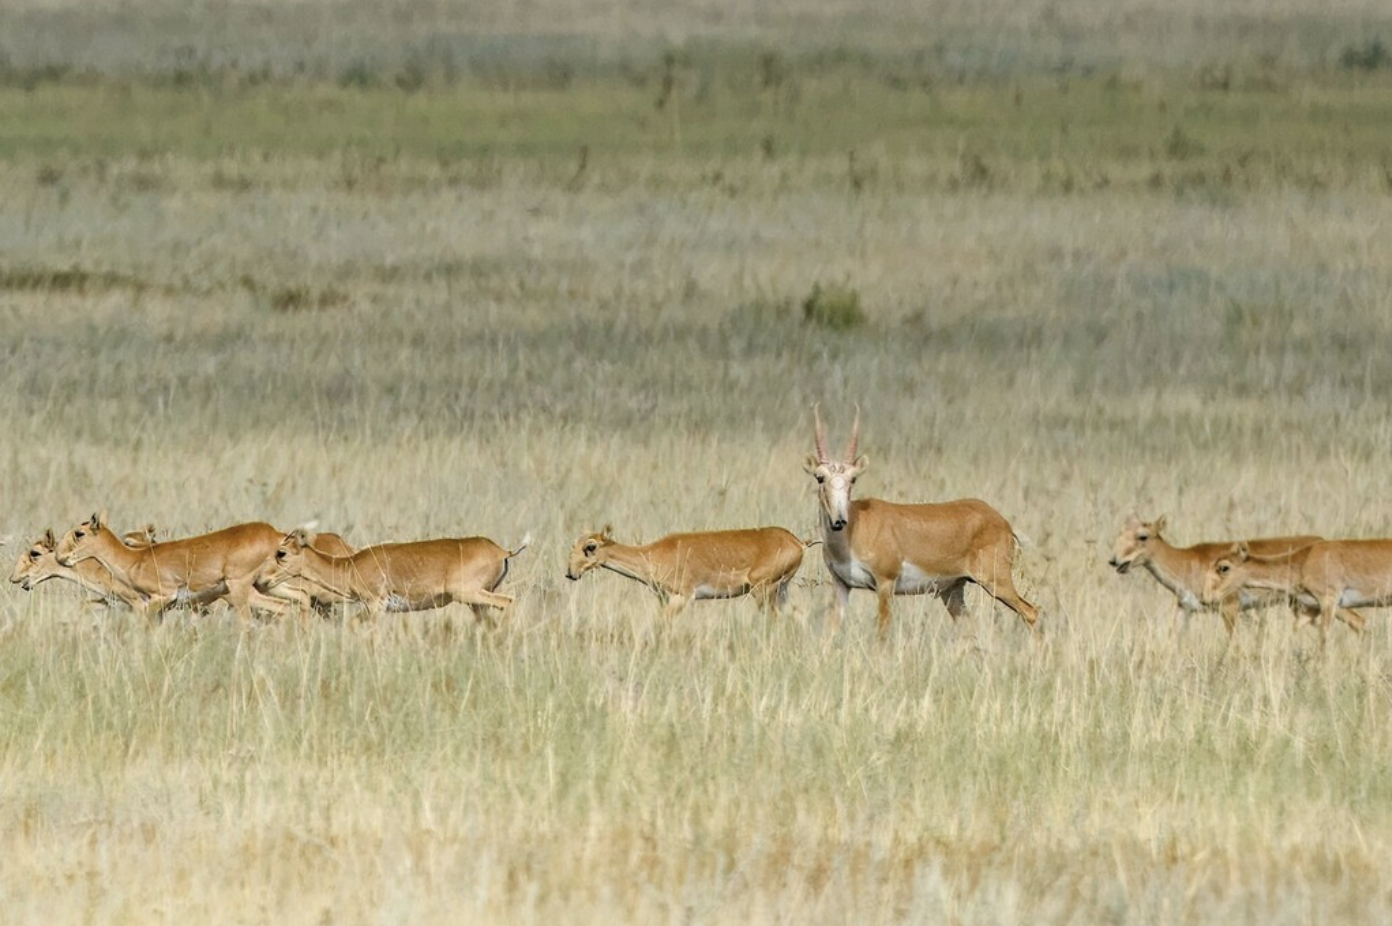saiga: (795, 389, 1051, 639)
